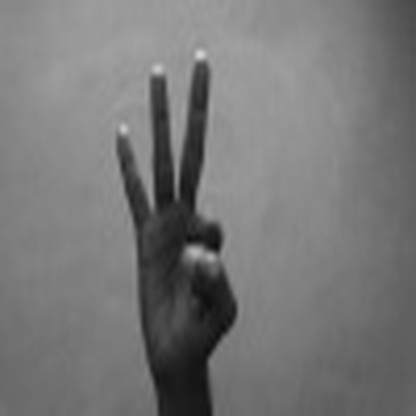f: (110, 40, 240, 371)
